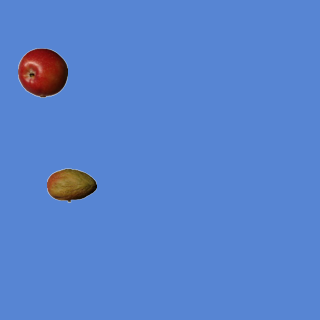Apple Braeburn: (17, 47, 67, 97)
Papaya: (46, 160, 96, 210)
